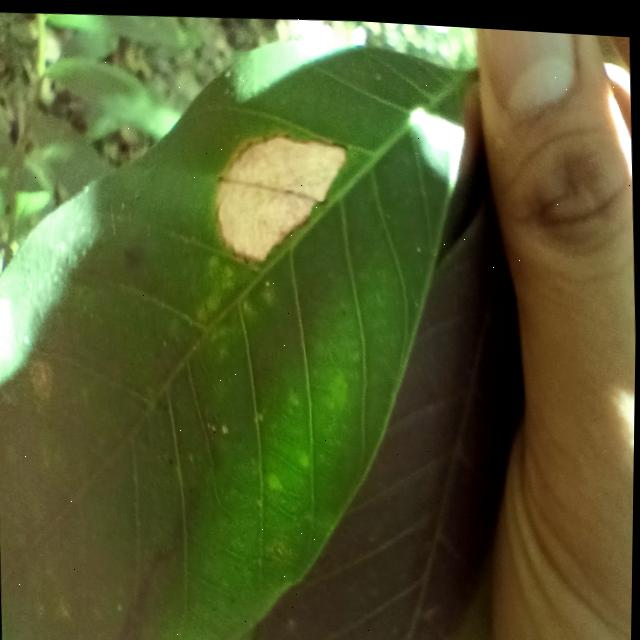Leaf-Blight: (216, 123, 350, 260)
